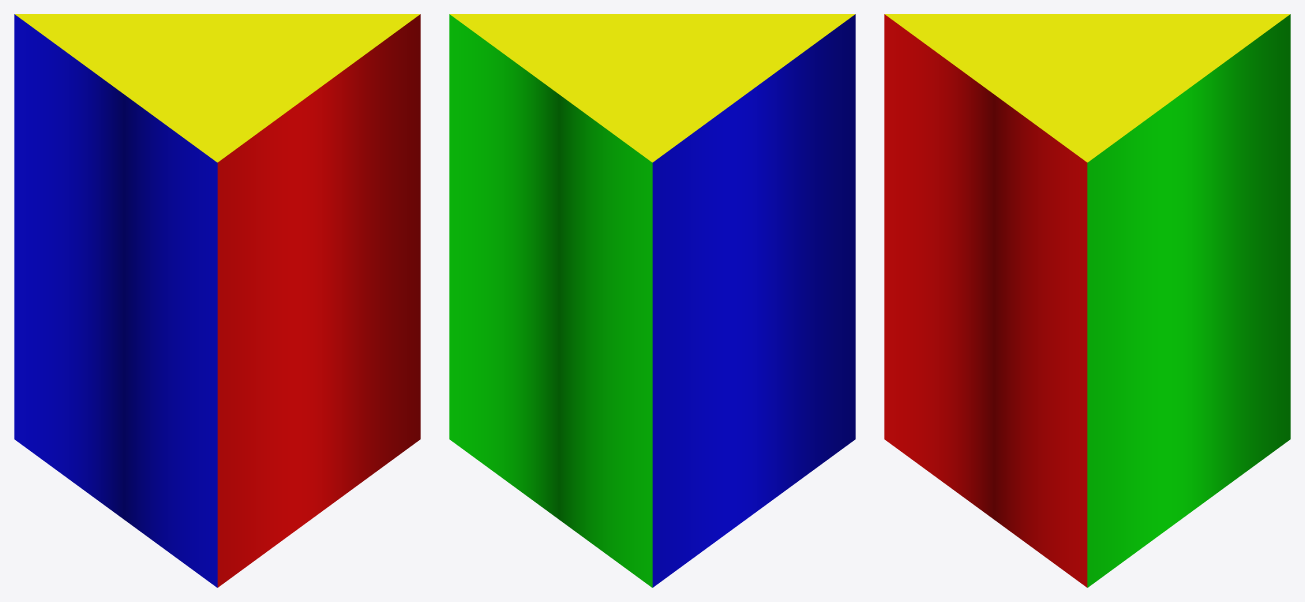
The model's file is 3prism_basic.DAE.
3 renders of one model, left to right at view 1: azimuth 30°, elevation 25°; view 2: azimuth 150°, elevation 25°; view 3: azimuth 270°, elevation 25°, orthographic.
Parts seen in each view (by area): view 1: Cylinder003; view 2: Cylinder003; view 3: Cylinder003.
Boxes of the visible parts, bbox=[...] form: Cylinder003: bbox=[14, 14, 420, 587]; Cylinder003: bbox=[449, 14, 855, 587]; Cylinder003: bbox=[884, 14, 1290, 587].
Size of the model in its own units: 300 by 346 by 400.
